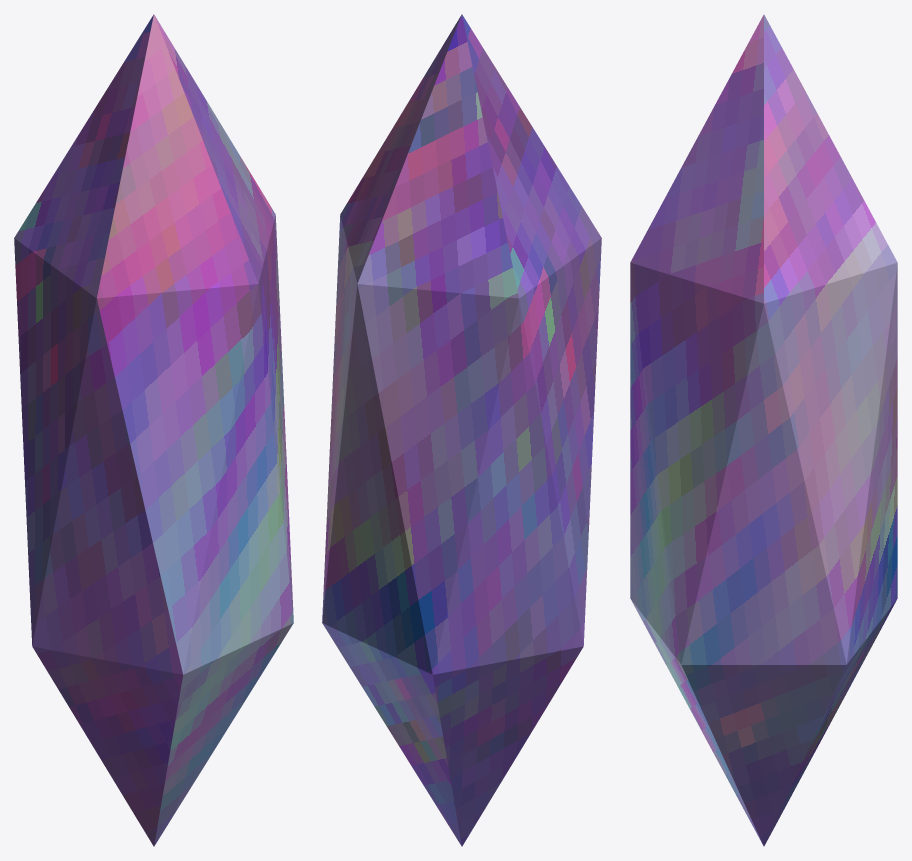
Rendered from Cyrstal.glb.
3 renders of one model, left to right at view 1: azimuth 30°, elevation 25°; view 2: azimuth 150°, elevation 25°; view 3: azimuth 270°, elevation 25°, orthographic.
Visible parts, largest first — view 1: Icosphere; view 2: Icosphere; view 3: Icosphere.
Boxes of the visible parts, bbox=[...] form: Icosphere: bbox=[14, 14, 293, 846]; Icosphere: bbox=[322, 14, 601, 846]; Icosphere: bbox=[630, 14, 897, 846].
Size of the model in its own units: 1.21 by 3.95 by 1.15.
Materials: 1 (1 with a texture image).
